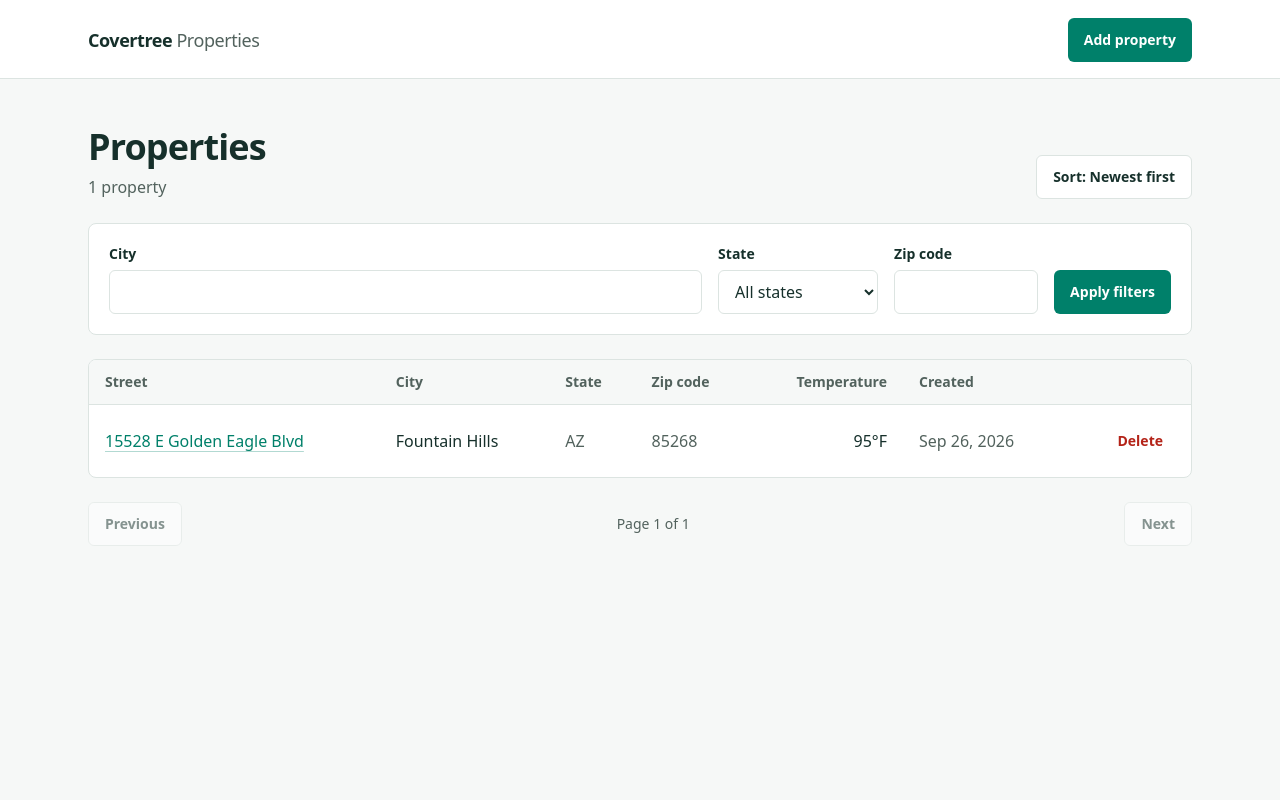
Test: PropertyListPage › delete (AC-W.6) › shows the error when the delete fails
Click the button with aria-label "Delete 15528" at (1140, 441), box 1106,421 -> 1175,461
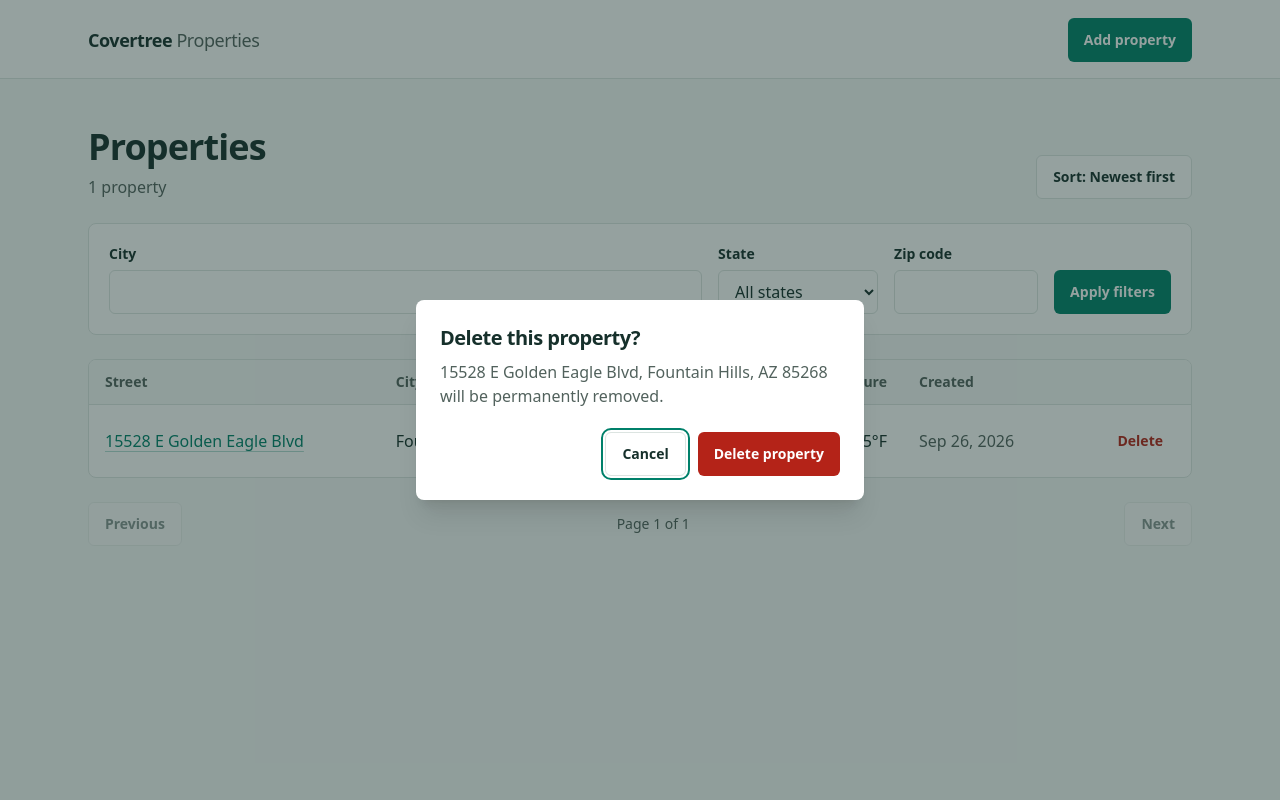
Click the button "Delete property" at (769, 454), box 698,432 -> 840,476
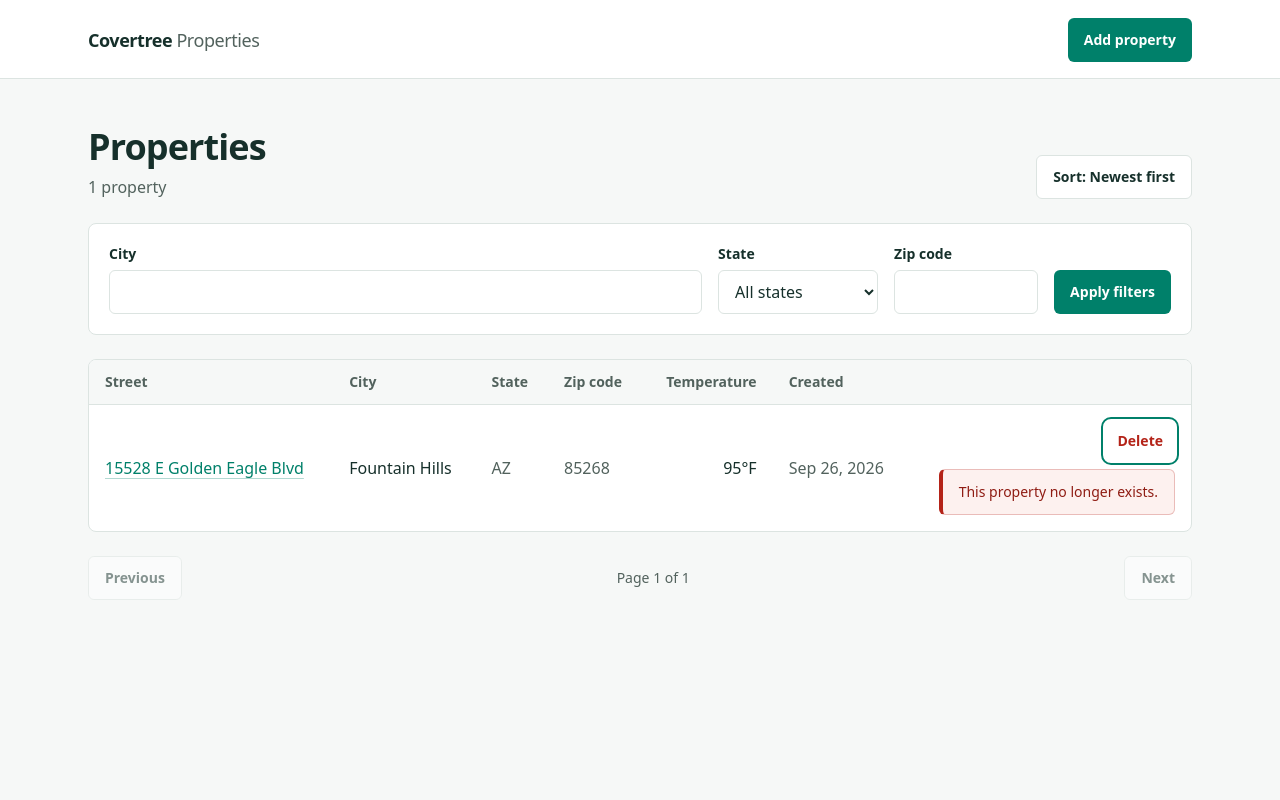
Expected: the message reads "This property no longer exists.", 959,482 -> 1158,501
